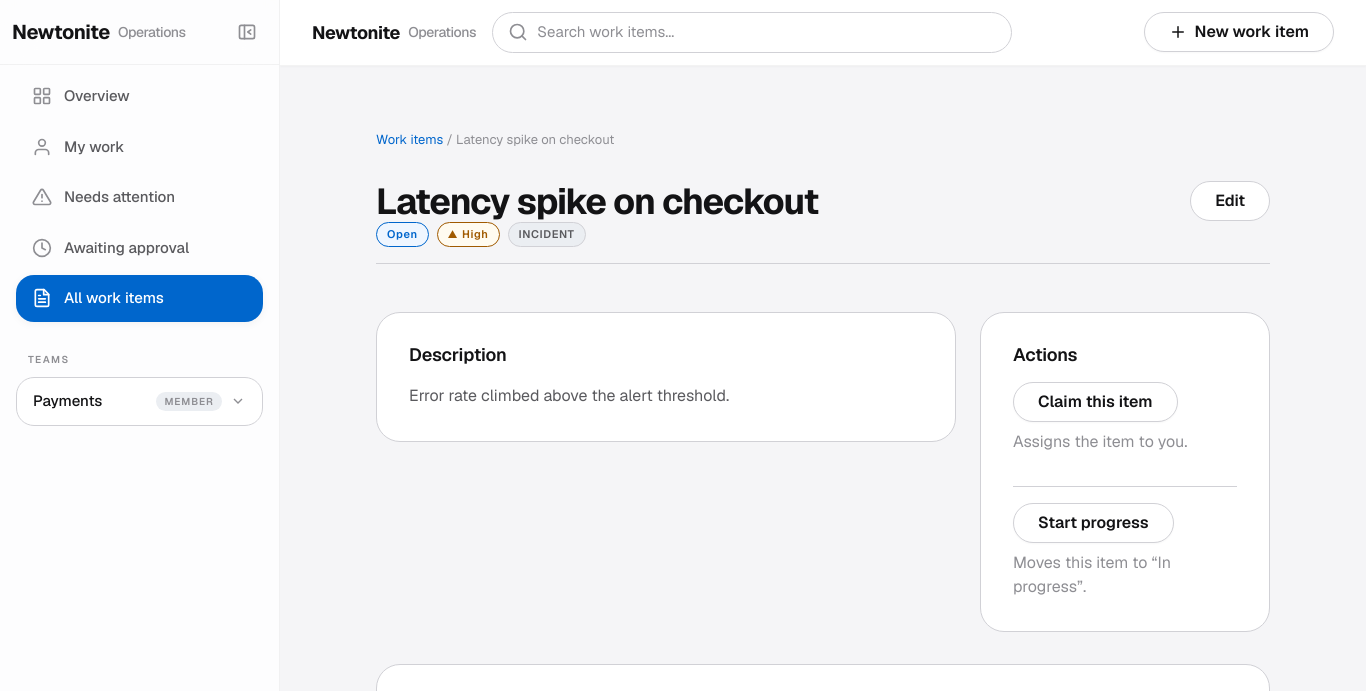
Scenario: ItemDetailPage › surfaces a stale-version transition as a reload prompt
Check: the heading "Latency spike on checkout" is shown, box [376,181,818,222]
What coordinates should you click on to do the following:
click the button "Start progress"
I would click on:
 (1093, 523)
Its box is [1013,503,1174,543].
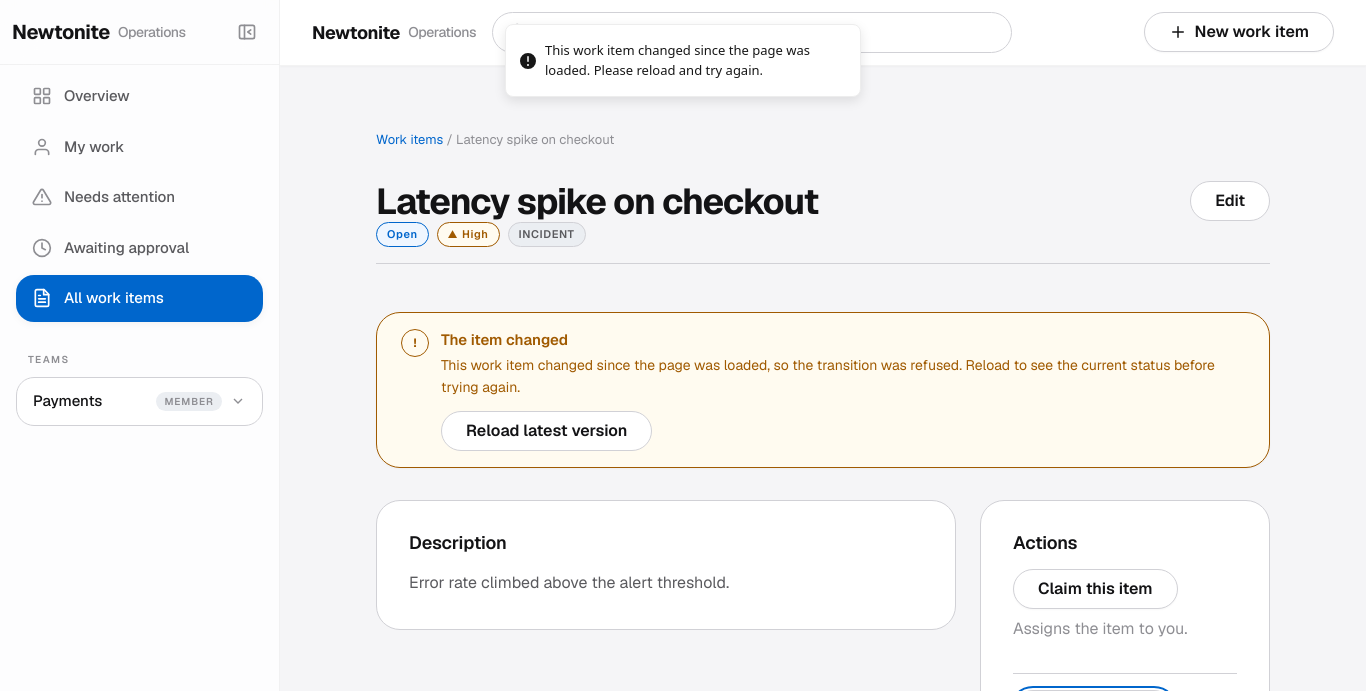
Check: the 1st list item is shown, box [505,24,861,97]
Check: the button "Reload latest version" is shown, box [441,411,652,451]
